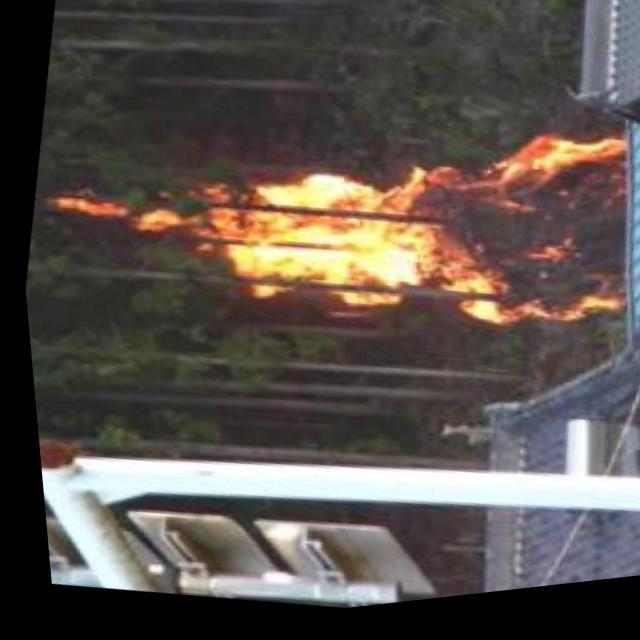fire: (28, 46, 640, 400)
